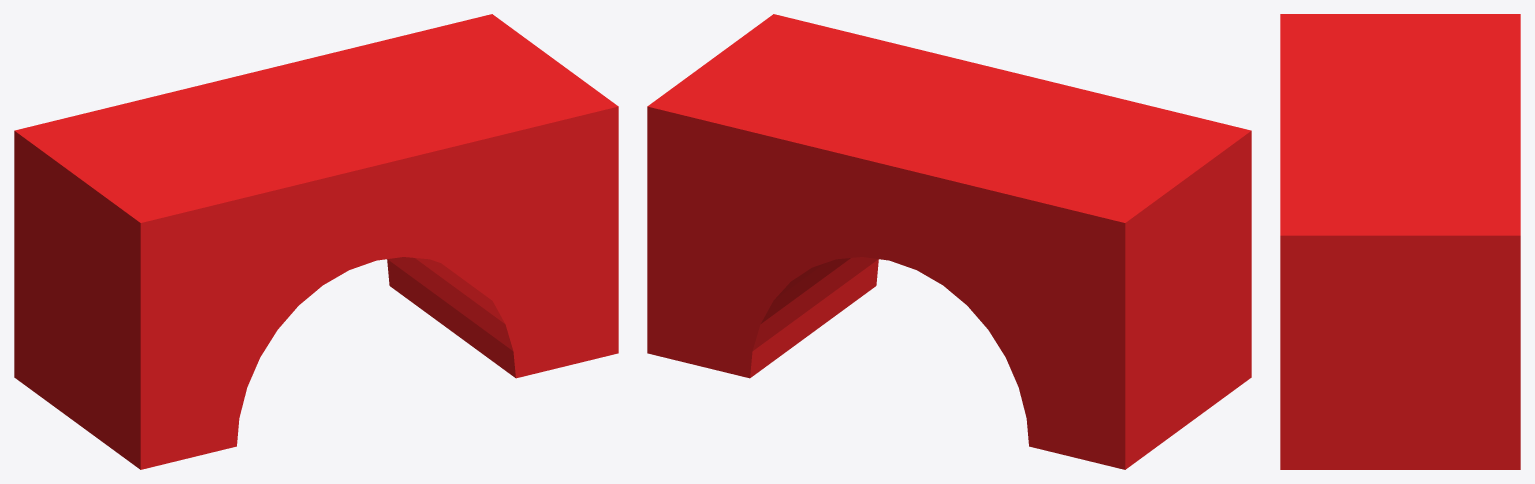
Rendered from Lvl 6 14.fbx.
The picture shows the model from 3 angles, left to right: view 1: azimuth 30°, elevation 25°; view 2: azimuth 150°, elevation 25°; view 3: azimuth 270°, elevation 25°; orthographic projection. The views are drawn at different scales.
Parts seen in each view (by area): view 1: Cube.010; view 2: Cube.010; view 3: Cube.010.
Boxes of the visible parts, x1,y1,x2,y2 form: Cube.010: (14,14,618,469); Cube.010: (647,14,1251,469); Cube.010: (1280,14,1520,469).
Size of the model in its own units: 436 by 215 by 200.
